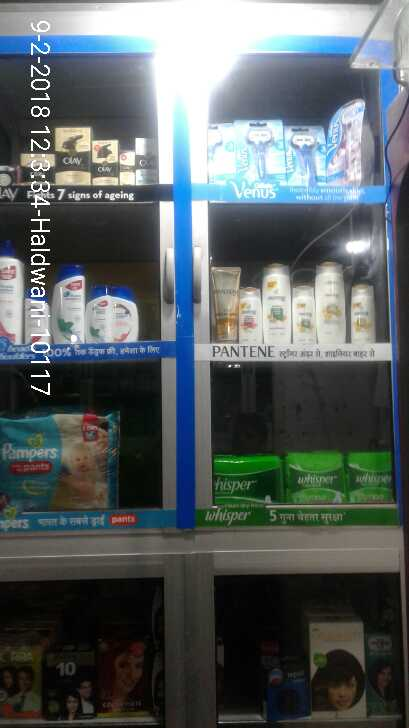venus: (327, 98, 364, 183), (240, 124, 286, 178), (286, 124, 328, 183), (206, 123, 240, 178)
